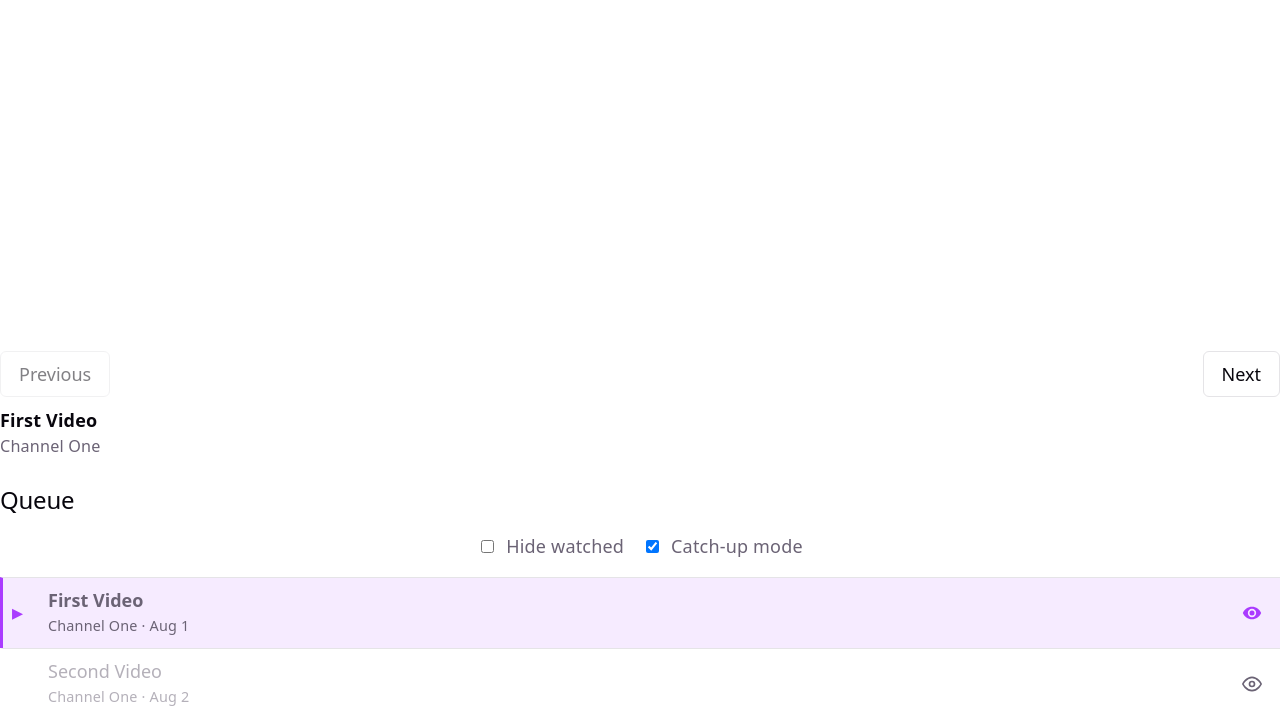
Test: FeedView › hides watched videos from the queue when 'Hide watched' is checked
The image size is (1280, 720).
(page scrolled)
expect the text "Second Video" is shown: met, box [48,659,162,683]
Click the checkbox labelled "Hide watched". click: {"x": 488, "y": 546}
box: [481,540,494,553]
(page scrolled)
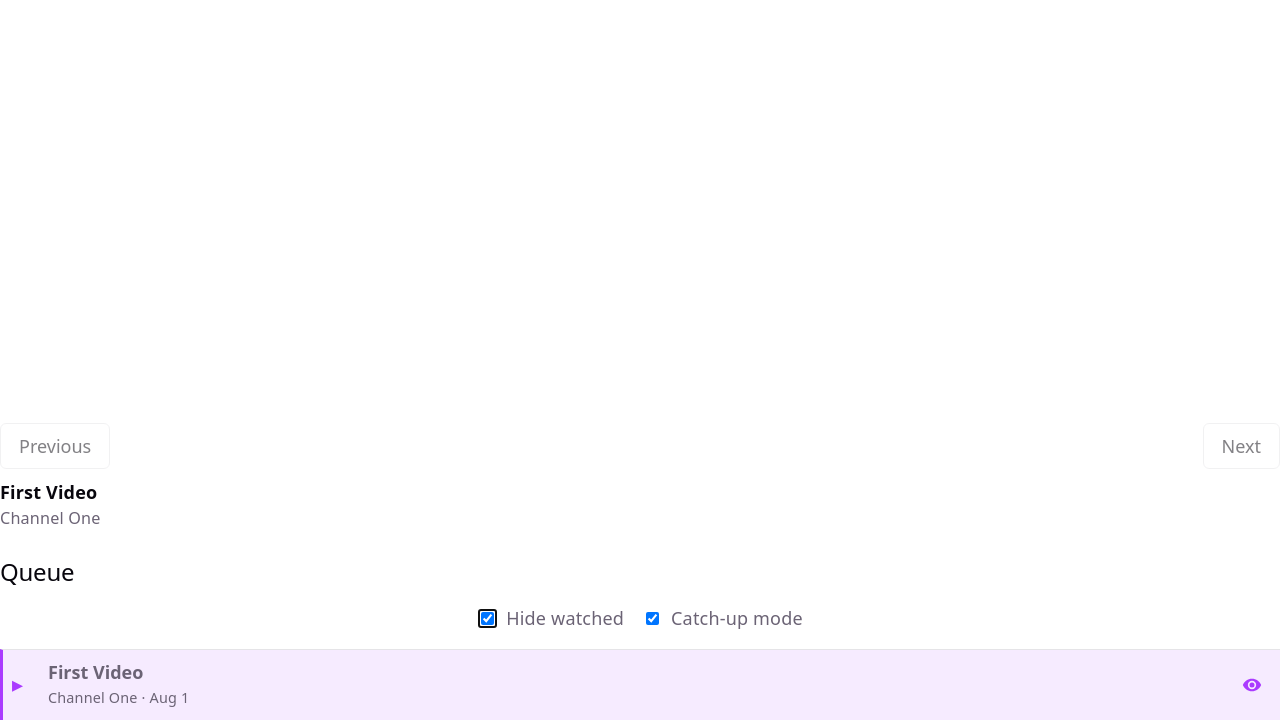
expect the button "Second Video" is gone: met
